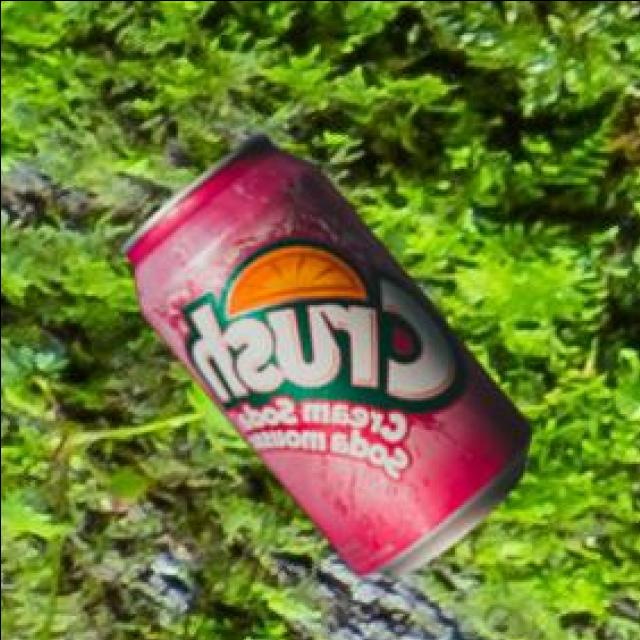logam: (117, 137, 528, 578)
